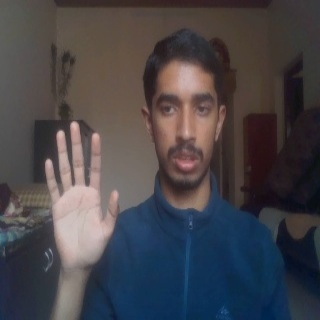Face: (140, 26, 229, 192)
Hello: (42, 119, 122, 275)
